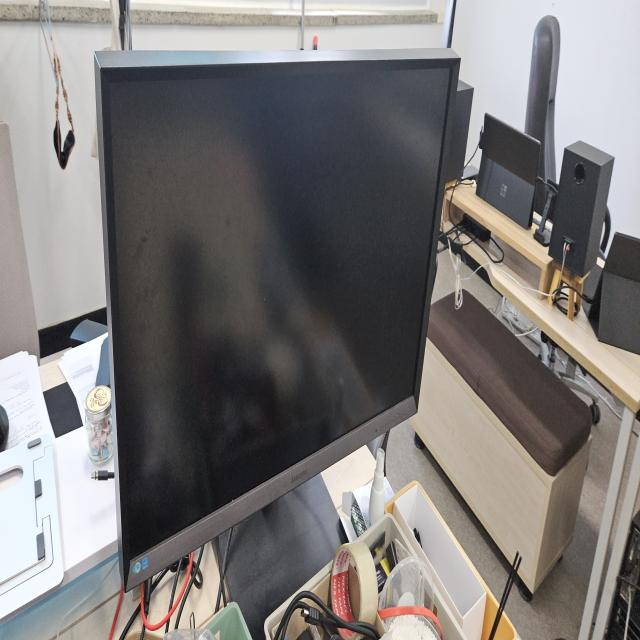Monitor: (91, 43, 462, 593)
